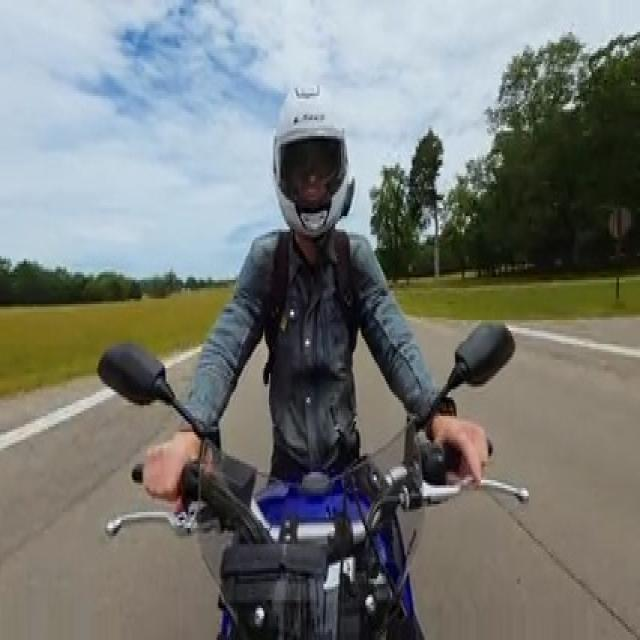Helmet_Wearer: (256, 71, 366, 241)
Person: (144, 72, 488, 537)
